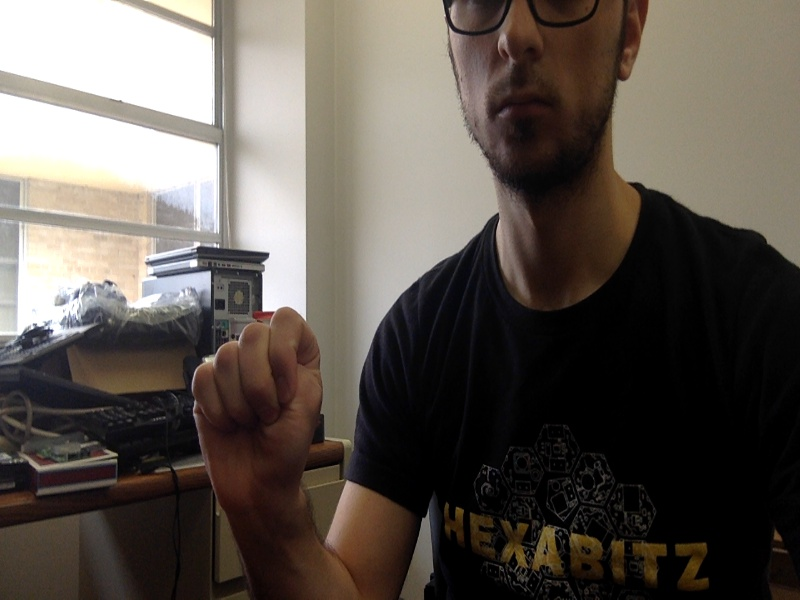0-hand: (190, 308, 323, 524)
